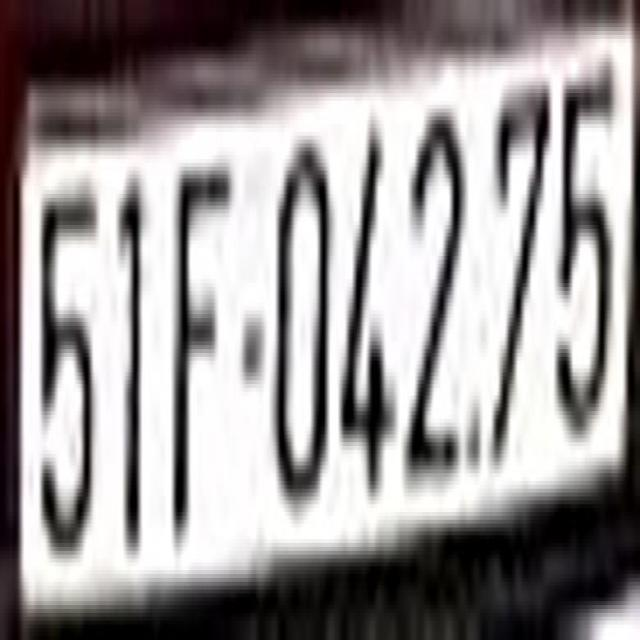0: (273, 116, 333, 508)
1: (116, 182, 144, 570)
2: (404, 109, 463, 492)
4: (341, 104, 394, 520)
5: (557, 66, 618, 454), (38, 178, 97, 562)
7: (486, 81, 554, 489)
F: (168, 147, 234, 551)
